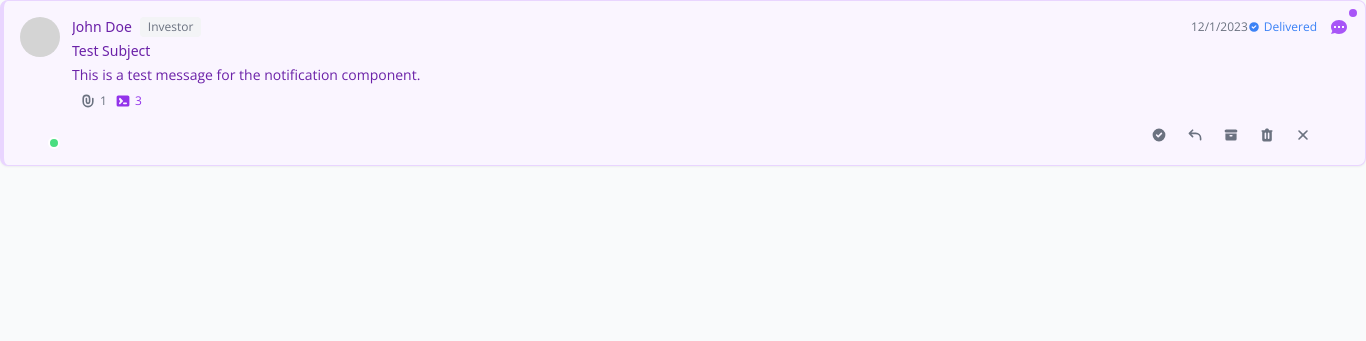
it: MessageNotification › disables send button when reply is empty
# Click reply button
Click the button titled "Reply" at (1195, 135), box [1181, 121, 1209, 149]
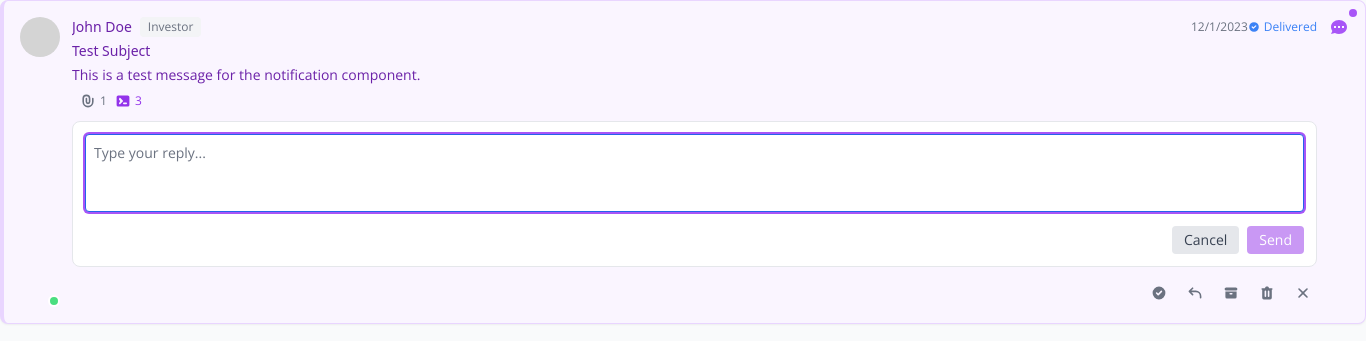
Check: the button "Send" is disabled, box [1247, 226, 1304, 254]
# Type reply
Type "This is my reply" into the text box with placeholder "Type your reply..." at (694, 173), box [85, 134, 1304, 212]
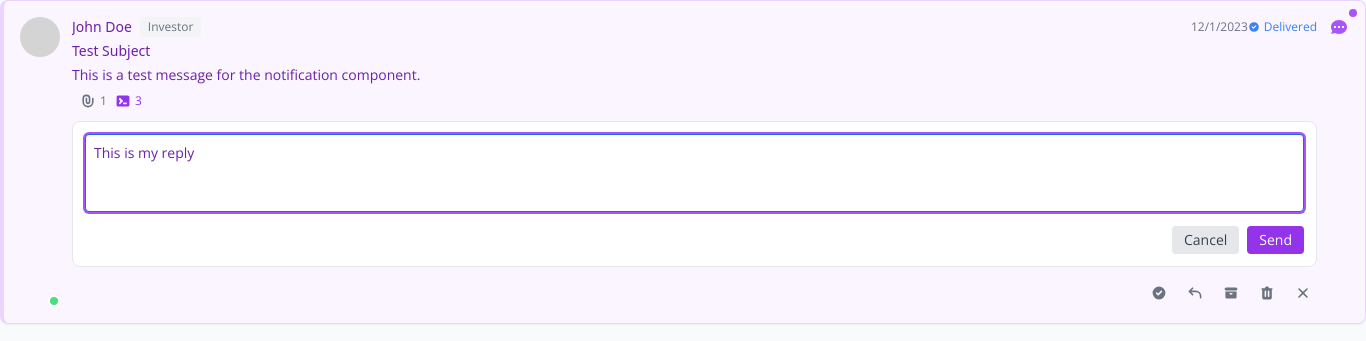
Check: the button "Send" is enabled, box [1247, 226, 1304, 254]
